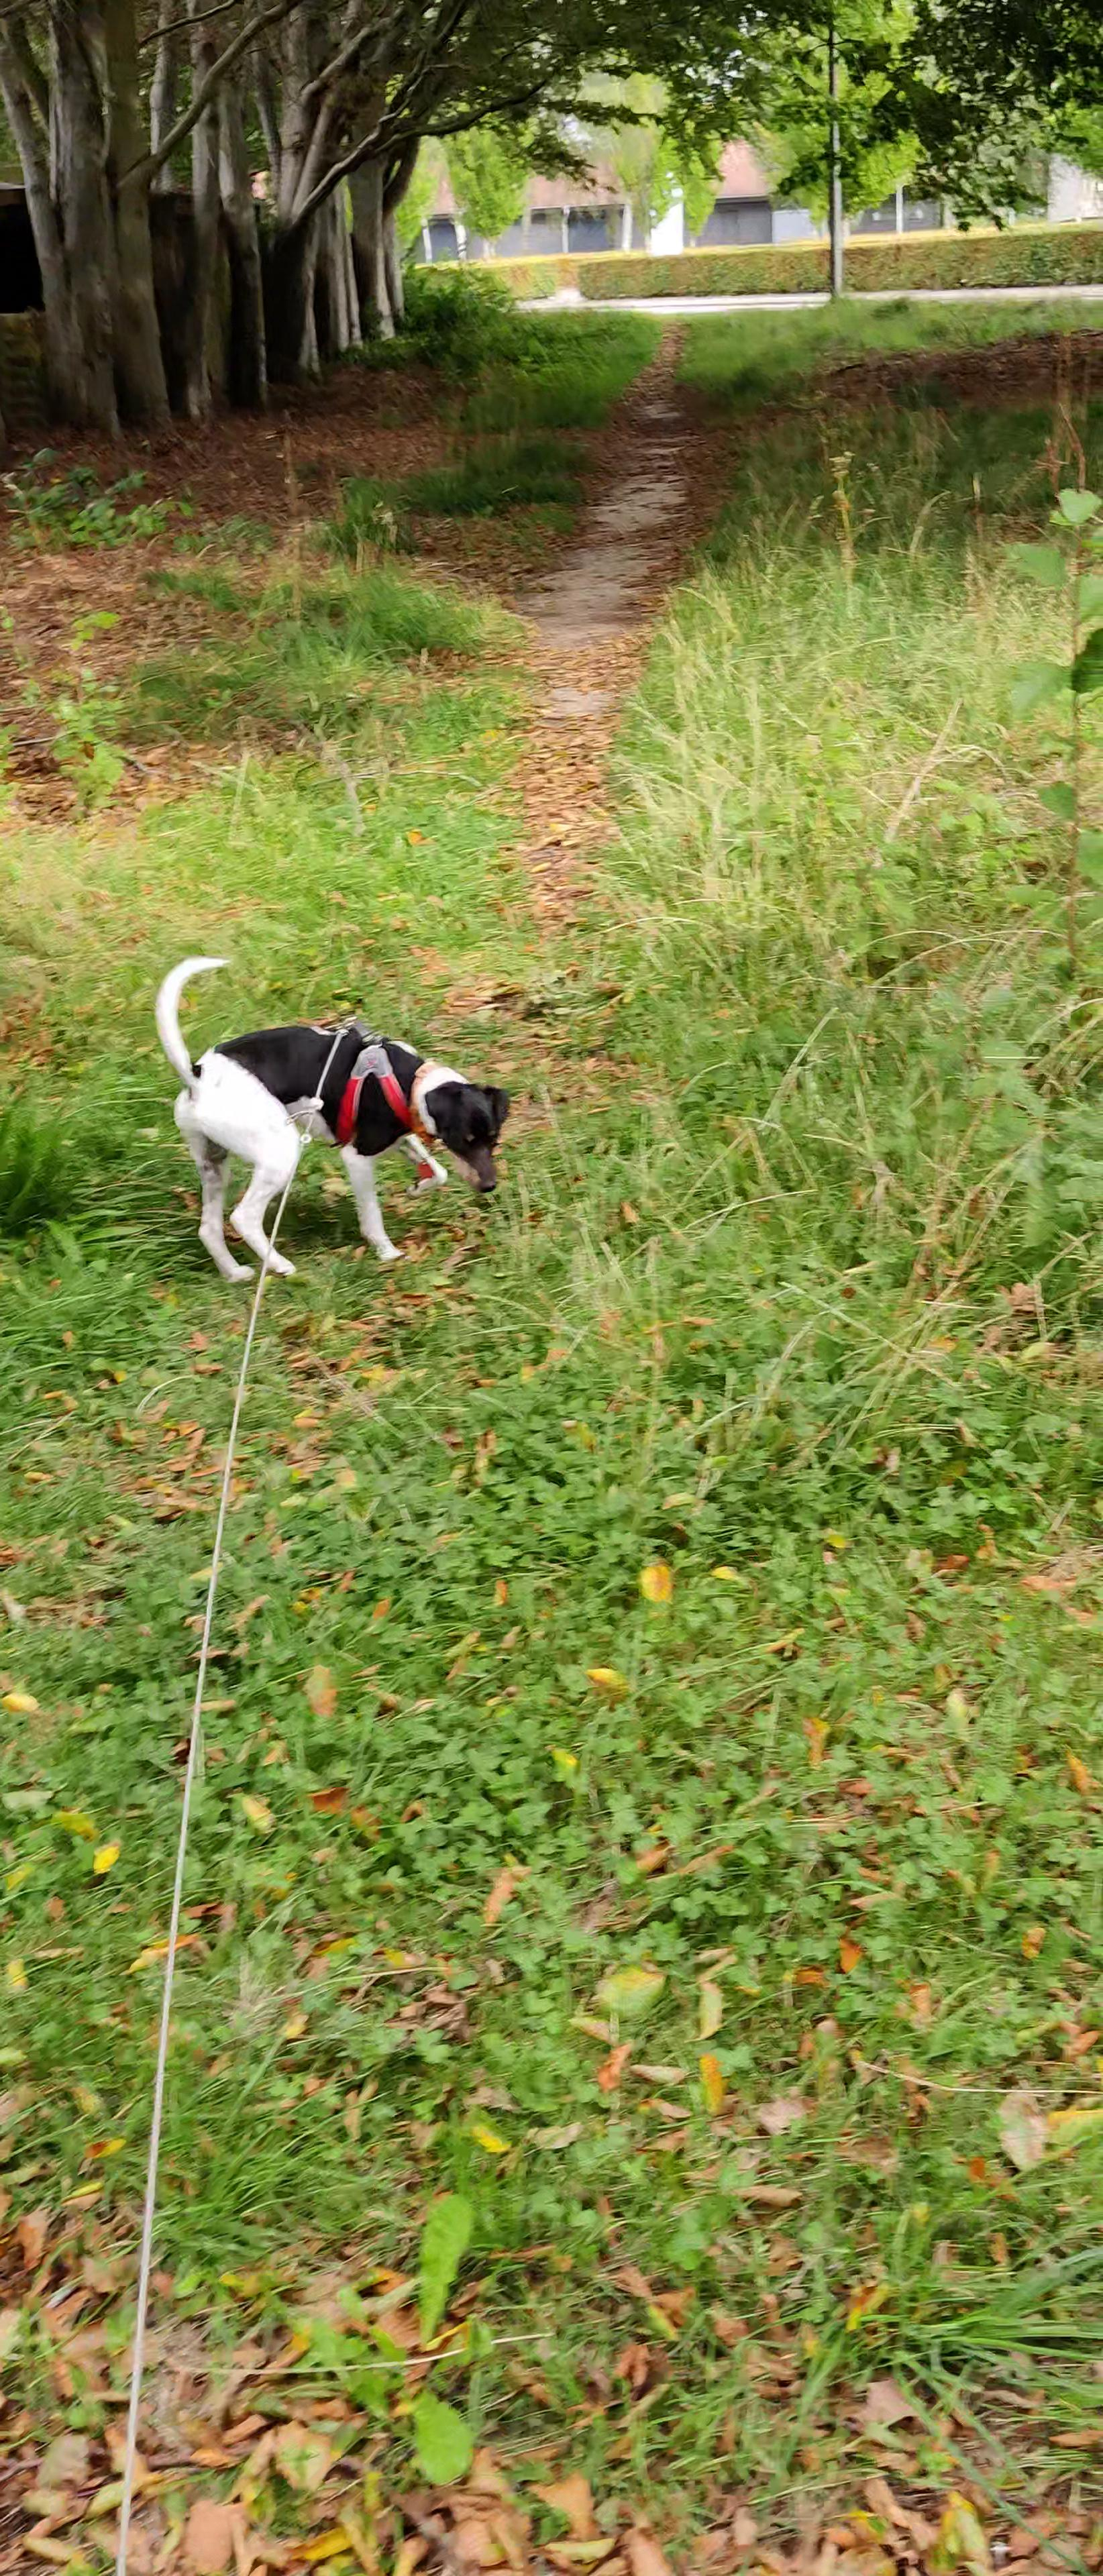Dog: (125, 940, 521, 1288)
